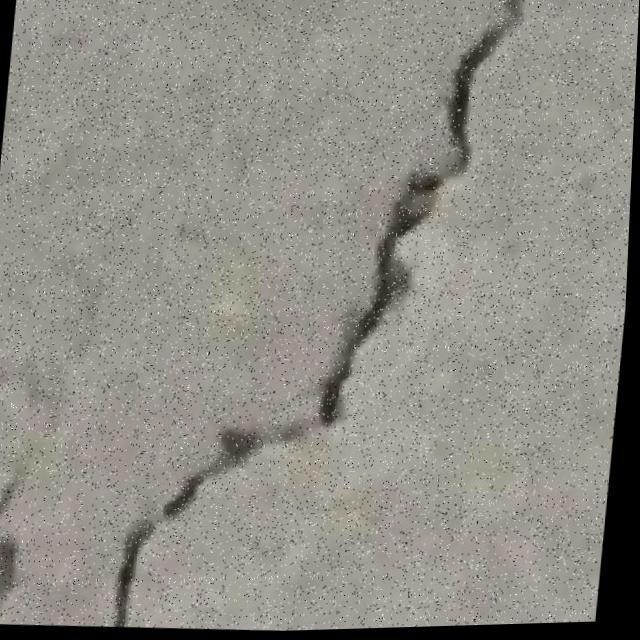Crack: (104, 0, 539, 637)
